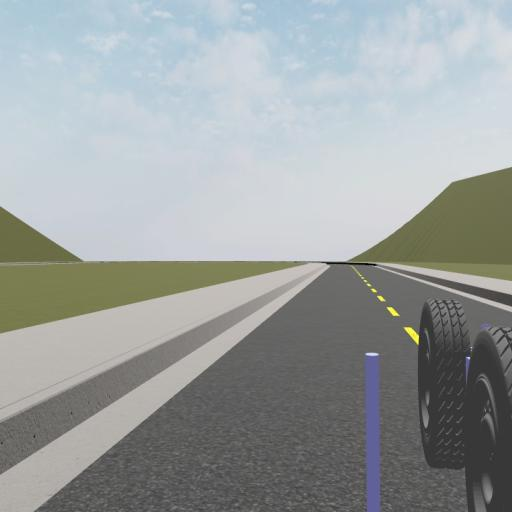ERP-42: (417, 296, 512, 512)
